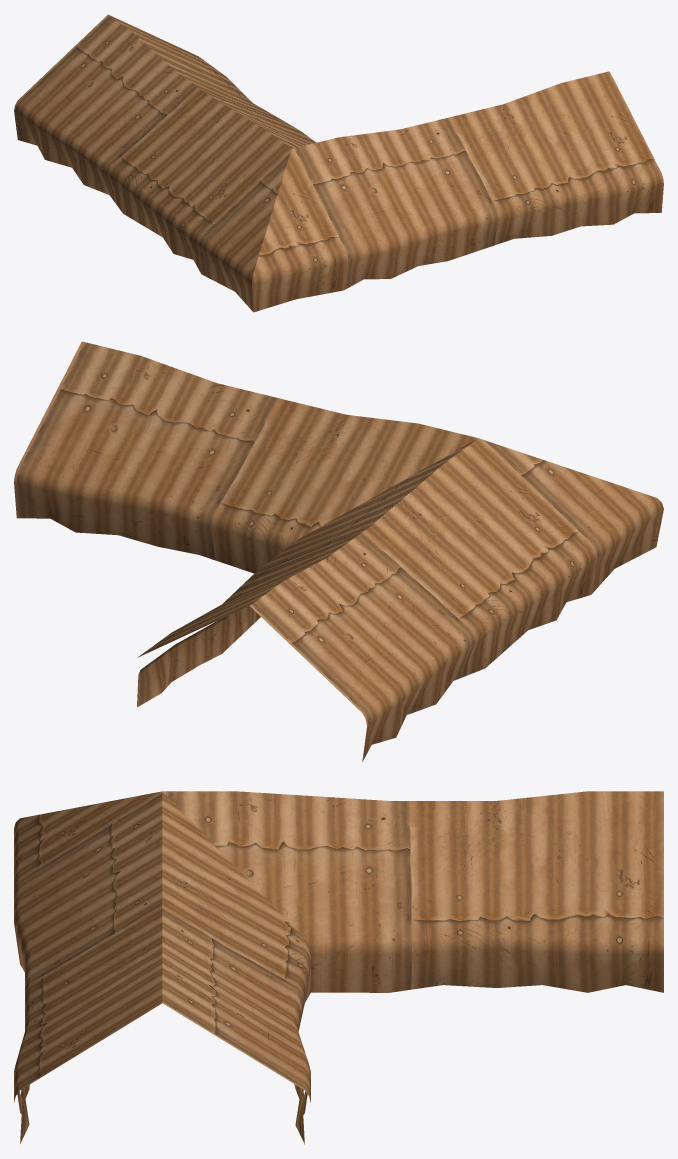
The model's file is SM_roof_07.glb.
3 views of the same model, one above another, from view 1: azimuth 30°, elevation 25°; view 2: azimuth 150°, elevation 25°; view 3: azimuth 270°, elevation 25° (orthographic). The views are drawn at different scales.
Parts seen in each view (by area): view 1: SM_roof_07; view 2: SM_roof_07; view 3: SM_roof_07.
Boxes of the visible parts, x1,y1,x2,y2 form: SM_roof_07: (14,14,663,312); SM_roof_07: (14,341,663,761); SM_roof_07: (14,791,663,1144).
Bounding box in the file's own units: 4.67 × 1.12 × 4.67.
Materials: 1 (1 with a texture image).
